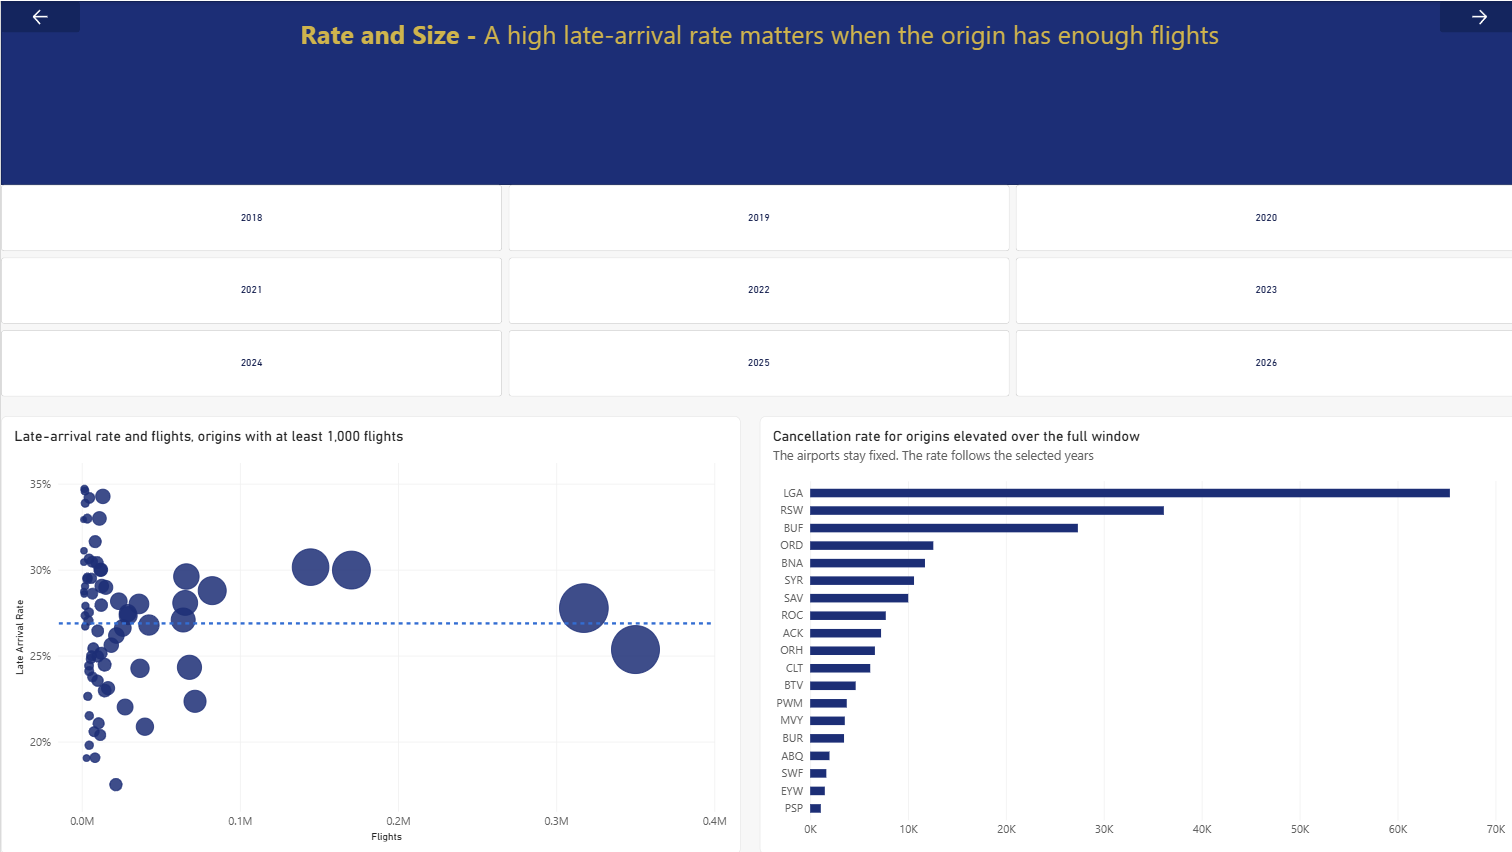

Layout of this report page (visuals, bound fields, positions):
{"tool":"powerbi","page":{"name":"Rate and Size","canvas":[1920,1080],"ordinal":4},"visuals":[{"type":"scatterChart","title":"Late-arrival rate and flights, origins with at least 1,000 flights","fields":{"Category":["Dim_Origin.Airport"],"Size":["Fact_Flight.Arrival Delay Minutes"],"X":["Fact_Flight.Flights"],"Y":["Fact_Flight.Late Arrival Rate"]},"box":[0,524.4,935.9,555.3],"z":0},{"type":"barChart","title":"Cancellation rate for origins elevated over the full window","fields":{"Category":["Dim_Origin.Airport"],"Y":["Fact_Flight.Flights"]},"box":[960.2,524.4,960.2,555.3],"z":1000},{"type":"shape","box":[0,0,1920.4,232.6],"z":2000},{"type":"textbox","box":[0,20.6,1920.4,185.2],"z":3000},{"type":"advancedSlicerVisual","fields":{"Values":["Dim_Month.Month_Start.Variation.Date Hierarchy.Year"]},"box":[0,232.3,1920.4,269.9],"z":4000},{"type":"actionButton","box":[0,0,100,40],"z":5000},{"type":"textbox","box":[100,100,300,300],"z":6000},{"type":"actionButton","box":[1820.9,0,100,40],"z":7000}]}

Visuals, with their boxes in screenshot pixels (x1, y1, x2, y2), scaled from the page's 1920x1080 canvas onto the 1512x852 screenshot:
"Late-arrival rate and flights, origins with at least 1,000 flights" scatterChart: bbox(0, 414, 737, 851)
"Cancellation rate for origins elevated over the full window" barChart: bbox(756, 414, 1511, 851)
shape: bbox(0, 0, 1511, 183)
textbox: bbox(0, 16, 1511, 162)
advancedSlicerVisual - Dim_Month.Month_Start.Variation.Date Hierarchy.Year: bbox(0, 183, 1511, 396)
actionButton: bbox(0, 0, 79, 32)
textbox: bbox(79, 79, 315, 316)
actionButton: bbox(1434, 0, 1511, 32)
